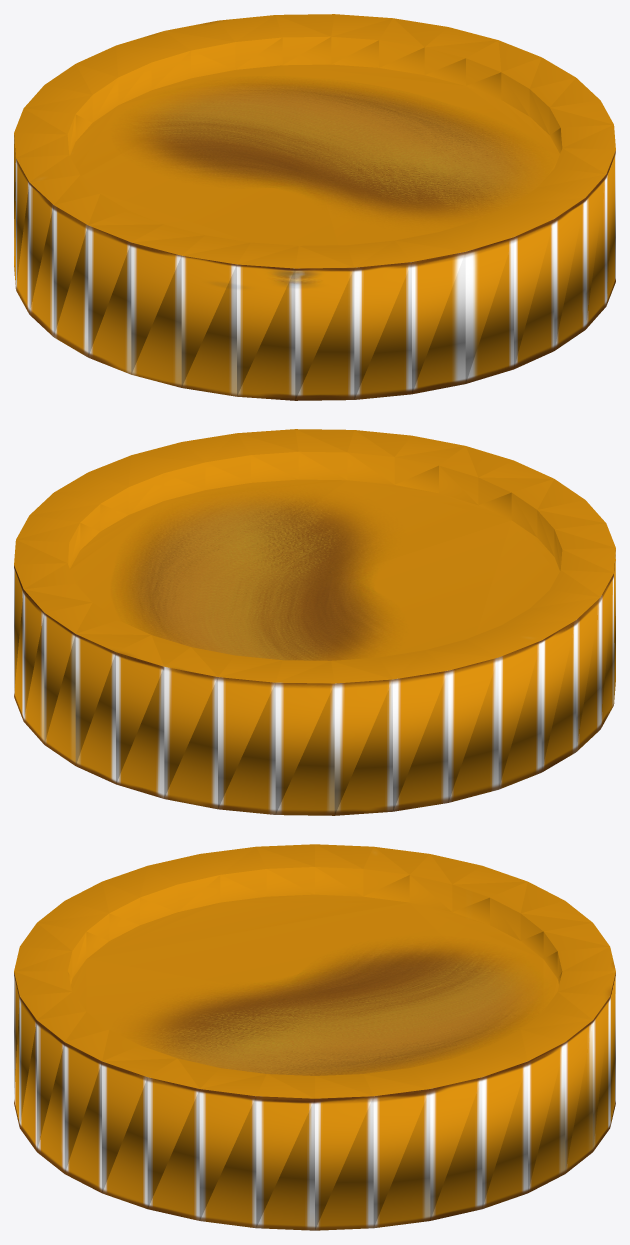
The model's file is SBVCoin.dae.
3 views of the same model, one above another, from view 1: azimuth 30°, elevation 25°; view 2: azimuth 150°, elevation 25°; view 3: azimuth 270°, elevation 25° (orthographic).
Visible parts, largest first — view 1: Cylinder; view 2: Cylinder; view 3: Cylinder.
Boxes of the visible parts, x1=… form: Cylinder: x1=14, y1=14, x2=615, y2=400; Cylinder: x1=14, y1=429, x2=615, y2=815; Cylinder: x1=14, y1=844, x2=615, y2=1230.
Bounding box in the file's own units: 2 × 2 × 0.484.
1 material, 1 textured.
